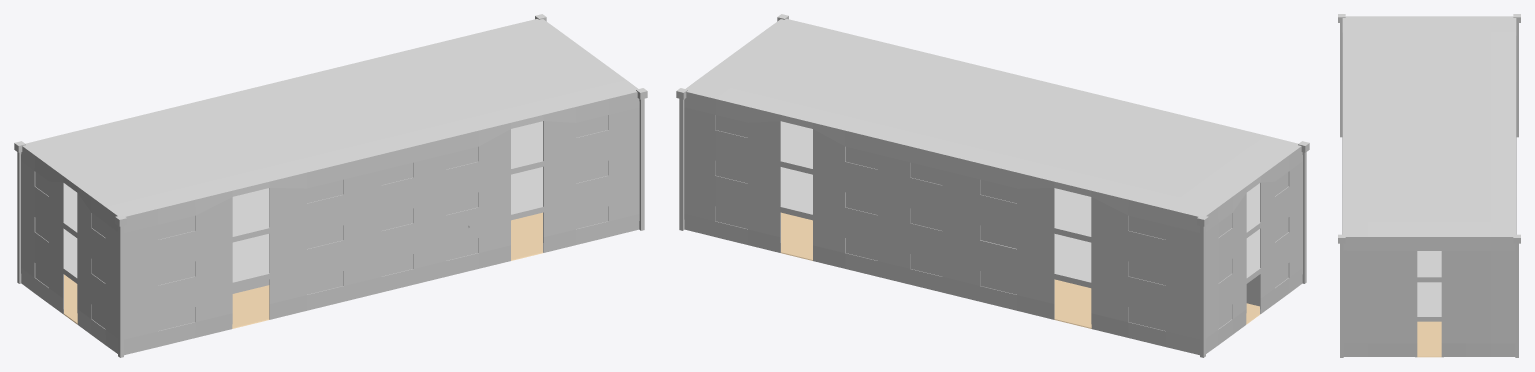
File: Mod Building Long 01.fbx
3 renders of one model, left to right at view 1: azimuth 30°, elevation 25°; view 2: azimuth 150°, elevation 25°; view 3: azimuth 270°, elevation 25°, orthographic. The views are drawn at different scales.
Parts seen in each view (by area): view 1: Long School Building, Windows.001, Long School Building Floor.001, Long School Building Floor, Building Edge Long; view 2: Long School Building, Windows.001, Long School Building Floor.001, Long School Building Floor, Building Edge Long; view 3: Long School Building, Windows.001, Building Edge Long, Long School Building Floor, Long School Building Floor.001.
Part boxes in pixels (x1,y1,x2,y2): Long School Building: (21,19,639,355); Windows.001: (35,115,608,330); Long School Building Floor.001: (64,121,542,236); Long School Building Floor: (64,167,542,281); Building Edge Long: (14,14,647,357); Long School Building: (684,19,1302,355); Windows.001: (715,115,1288,330); Long School Building Floor.001: (781,121,1259,236); Long School Building Floor: (781,167,1259,281); Building Edge Long: (676,14,1309,357); Long School Building: (1342,16,1516,357); Windows.001: (1368,251,1490,343); Building Edge Long: (1338,14,1520,357); Long School Building Floor: (1417,282,1441,316); Long School Building Floor.001: (1417,251,1441,276).
Size of the model in its own units: 3039 by 766 by 1049.
